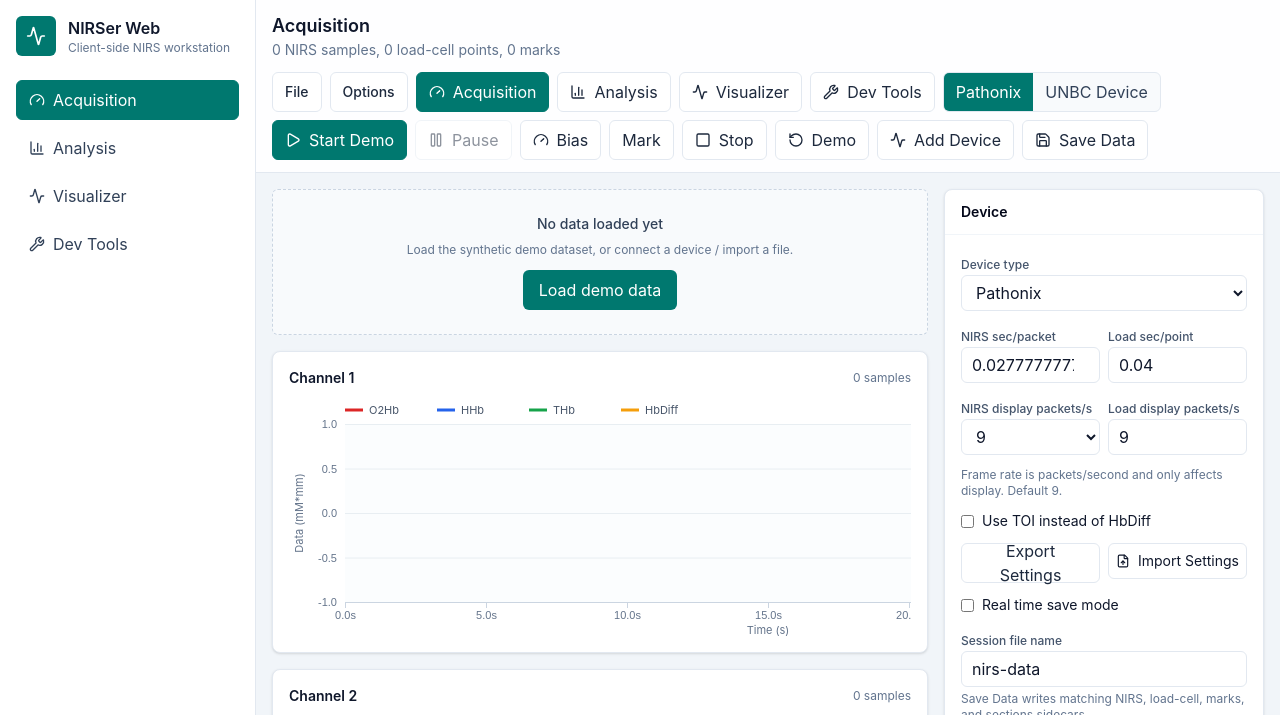
Test: Marks context menu & keyboard shortcuts › deletes a mark from the right-click context menu
Click the button "Load demo data" at (600, 290), box [523,270,677,310]
(page scrolled)
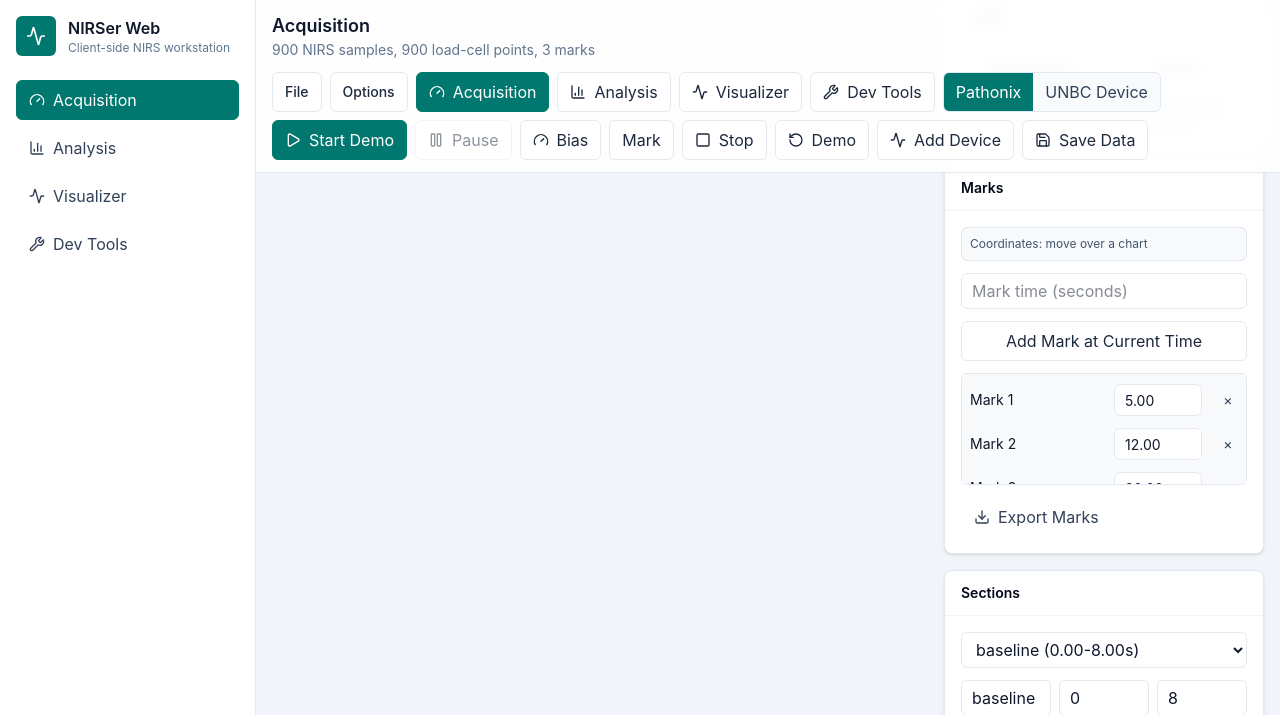
Right-click the element "Mark 1" at (989, 400), box [970,382,1238,418]
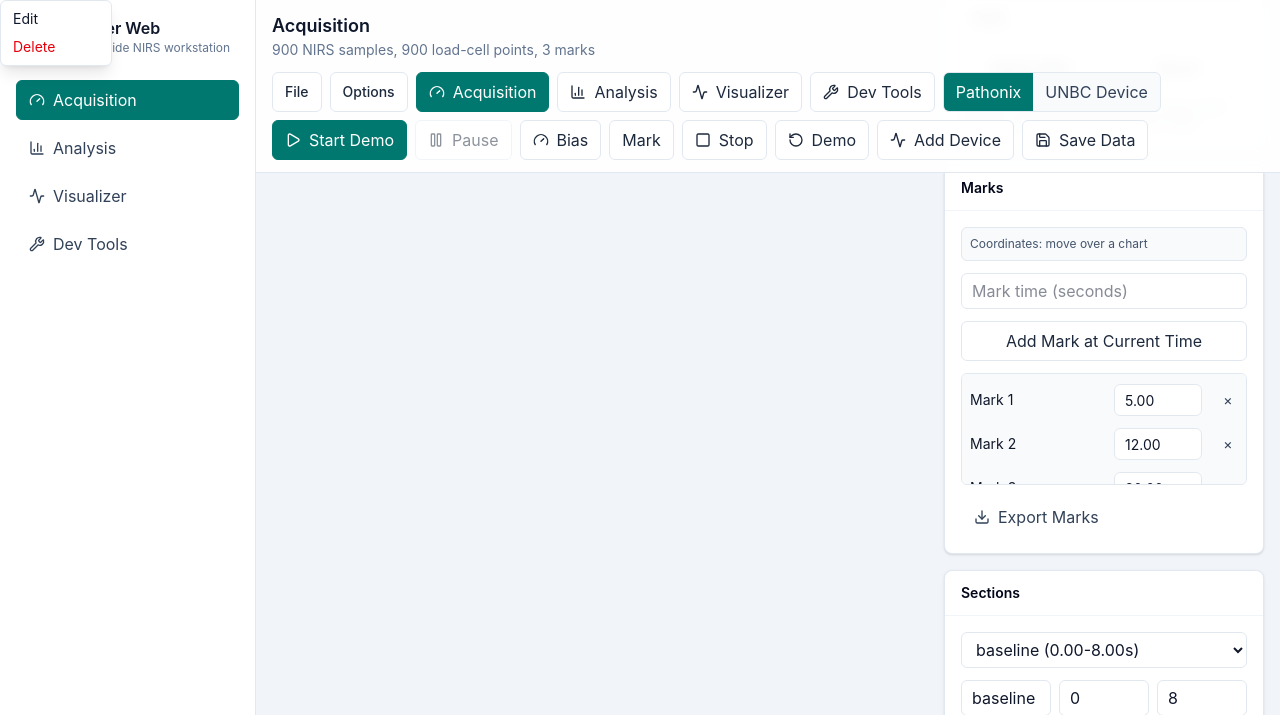
Click the menu item "Delete" at (56, 47), box [1,33,111,61]
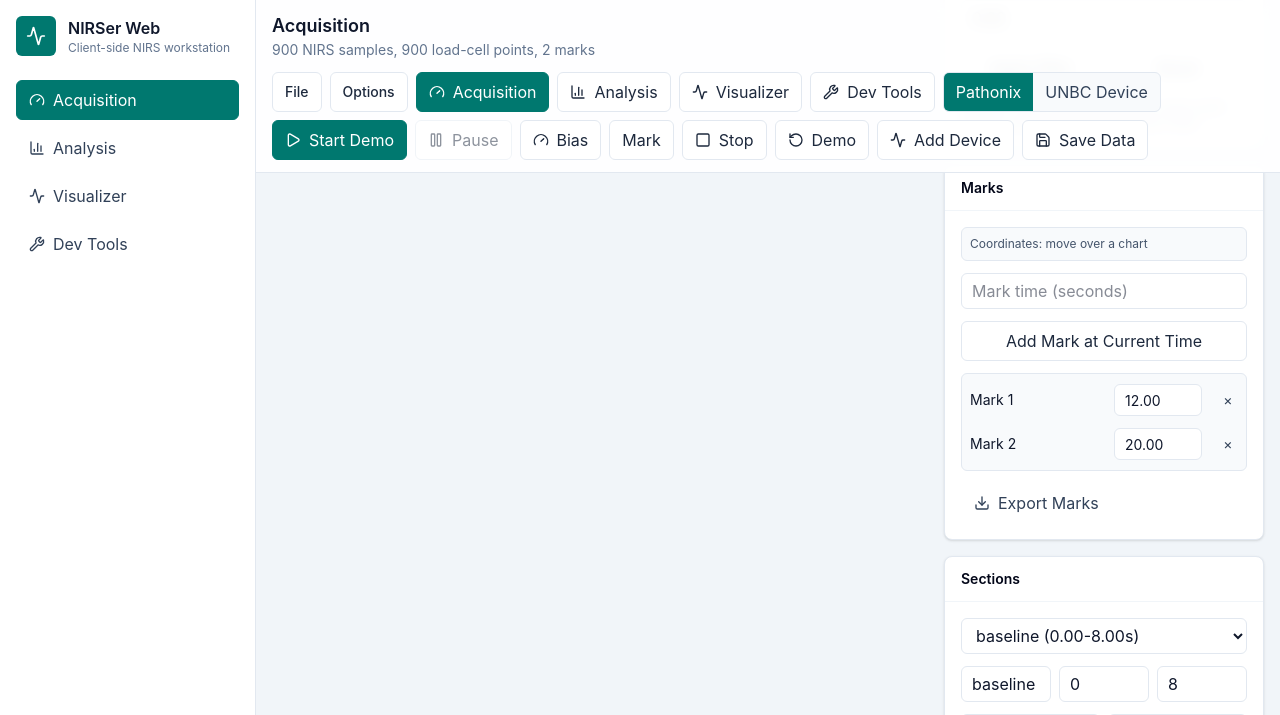
Result: the number of buttons named "Delete mark" is 2 at [1210,382,1246,418]; [1210,426,1246,462]
